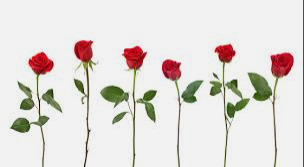RedRose: (268, 50, 295, 81), (28, 49, 54, 79), (121, 44, 145, 70), (160, 57, 183, 80), (74, 39, 94, 62), (215, 42, 236, 63)
